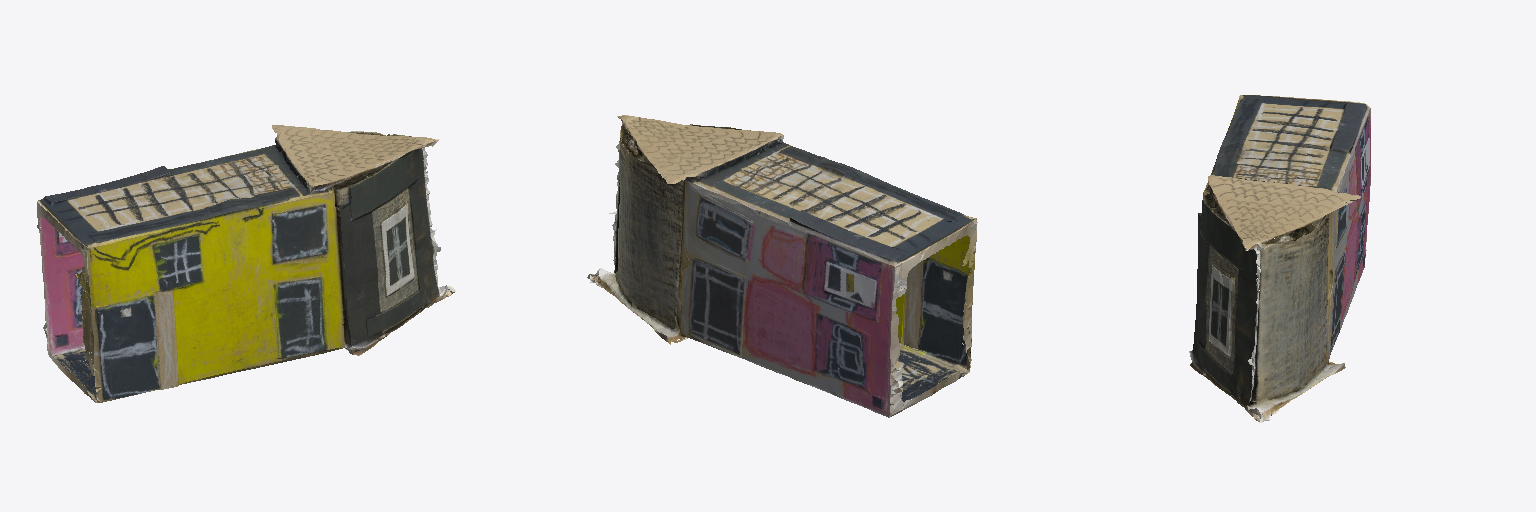
3 views of the same model, side by side, from view 1: azimuth 30°, elevation 25°; view 2: azimuth 150°, elevation 25°; view 3: azimuth 270°, elevation 25° (orthographic).
Bounding box in the file's own units: 9.83 × 4.5 × 4.08.
Materials: 1 (1 with a texture image).